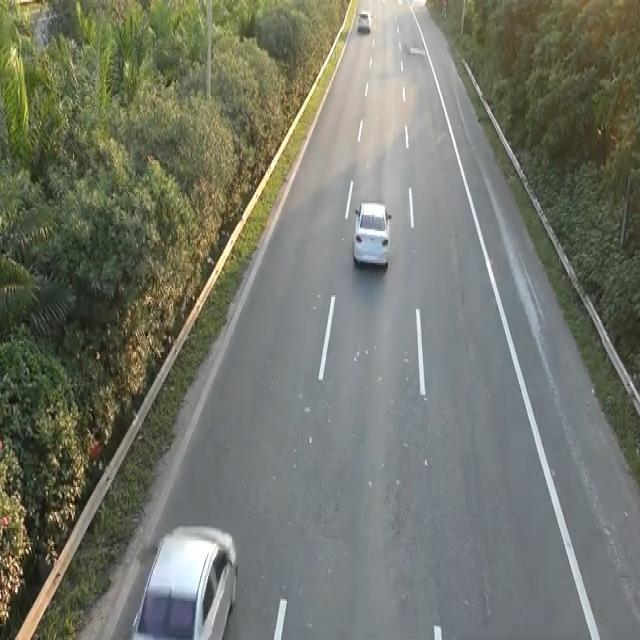bus: (129, 521, 238, 636), (350, 196, 395, 276)
